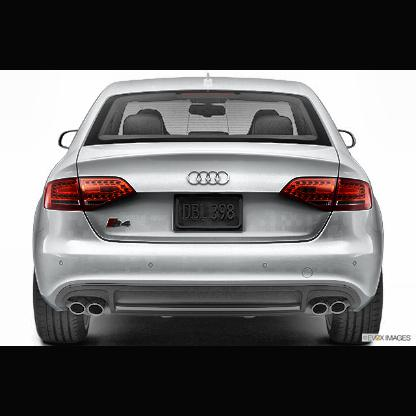Audi S4 Sedan 2012: (33, 76, 386, 346)
